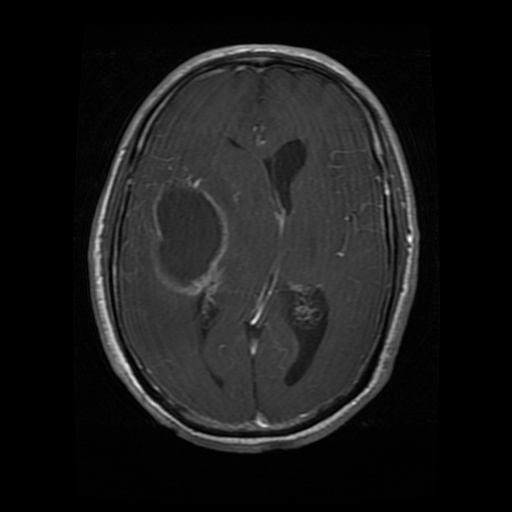glioma: (149, 176, 230, 298)
